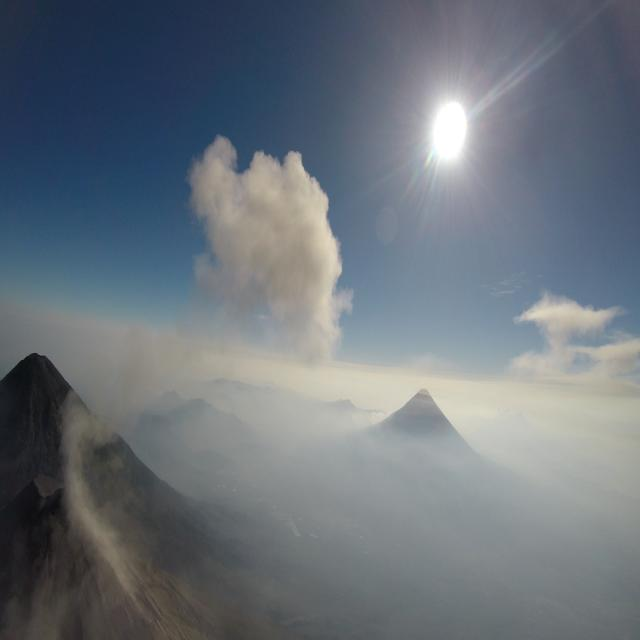Plume: (186, 136, 350, 366)
Summit: (42, 475, 104, 533)
